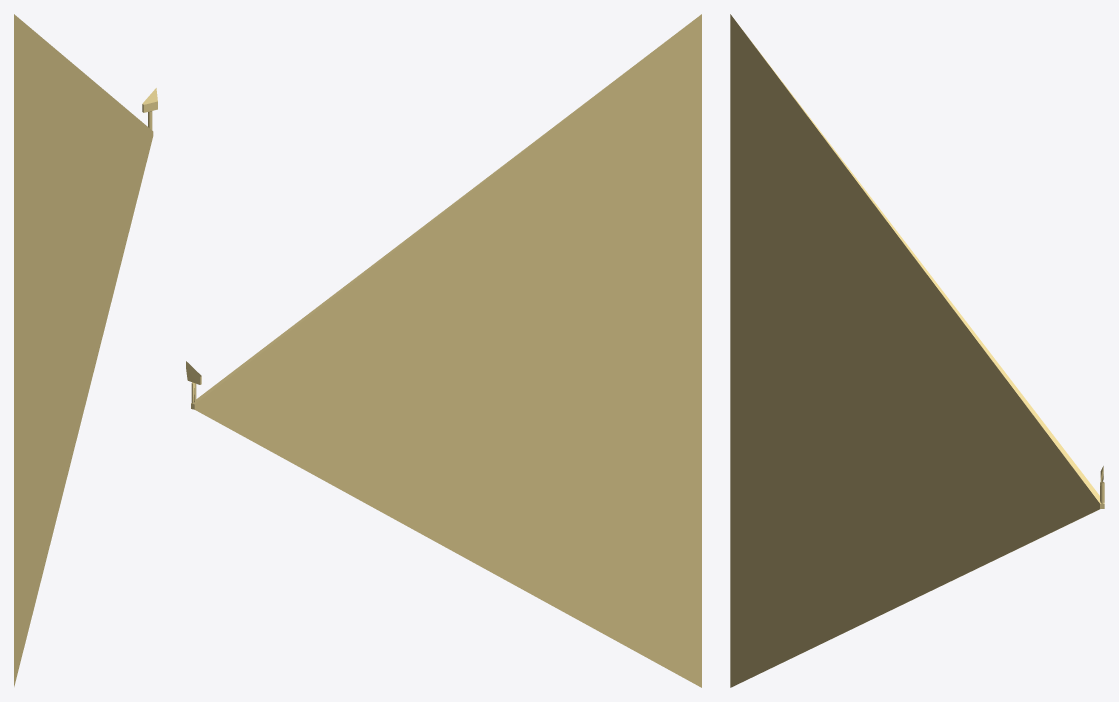
File: SM_Prop_ClockKey_01.glb
3 views of the same model, side by side, from view 1: azimuth 30°, elevation 25°; view 2: azimuth 150°, elevation 25°; view 3: azimuth 270°, elevation 25° (orthographic).
Parts seen in each view (by area): view 1: SM_Prop_ClockKey_01; view 2: SM_Prop_ClockKey_01; view 3: SM_Prop_ClockKey_01.
Part boxes in pixels (left/top/right/bottom): SM_Prop_ClockKey_01: left=14, top=14, right=157, bottom=686; SM_Prop_ClockKey_01: left=186, top=14, right=701, bottom=687; SM_Prop_ClockKey_01: left=730, top=14, right=1104, bottom=687.
Size of the model in its own units: 0.511 by 1 by 0.503.
